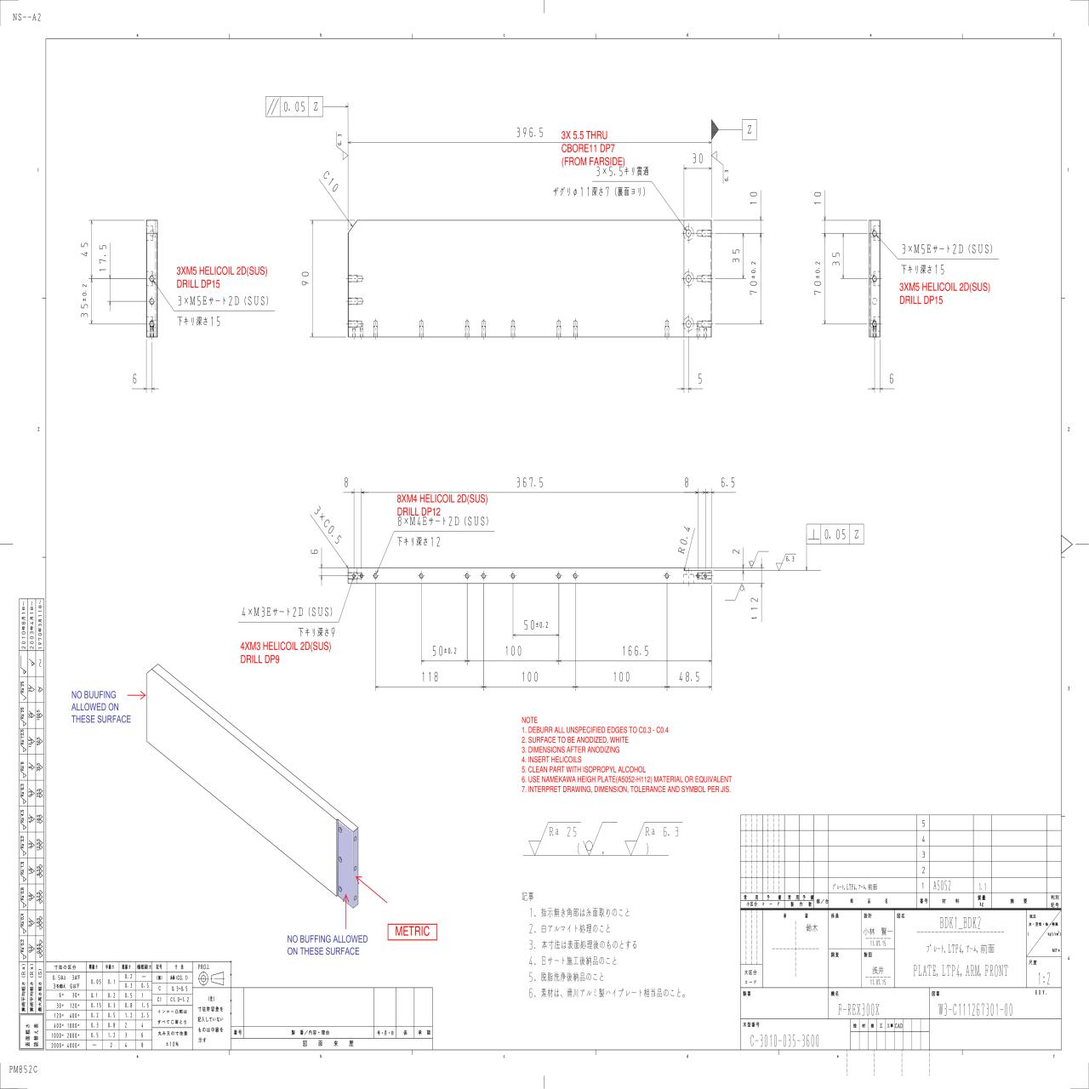basic_dimension: (517, 476, 543, 489), (516, 127, 543, 138), (623, 646, 649, 656), (679, 671, 699, 682), (99, 244, 107, 271), (284, 101, 305, 111), (825, 529, 845, 539), (609, 165, 624, 177), (614, 671, 630, 682), (721, 476, 735, 488), (506, 645, 521, 656), (422, 672, 438, 682), (522, 671, 538, 681), (80, 242, 88, 257), (832, 252, 840, 266), (693, 153, 703, 164), (301, 272, 309, 285), (732, 249, 740, 262), (750, 192, 757, 204), (814, 192, 821, 204), (684, 477, 689, 489), (133, 373, 137, 384), (698, 373, 702, 384), (344, 477, 348, 487), (732, 549, 740, 554), (311, 550, 319, 554), (890, 374, 893, 383)
datum_symbol: (711, 119, 757, 140)
dimension_chamfer_symbol: (322, 517, 342, 545), (322, 170, 339, 193)
dimension_chamfer_text: (327, 524, 342, 545), (327, 176, 339, 193)
dimension_diameter_symbol: (573, 187, 589, 197)
dimension_diameter_text: (580, 187, 590, 197)
dimension_metric_symbol: (190, 295, 202, 307), (410, 516, 421, 527), (253, 607, 265, 617), (909, 282, 919, 291)
dimension_metric_text: (197, 295, 201, 307), (915, 282, 920, 291), (417, 516, 421, 527), (261, 606, 265, 617)
dimension_radius_symbol: (678, 524, 691, 555)
dimension_radius_text: (680, 524, 691, 546)
dimension_thickness_symbol: (750, 597, 758, 621)
dimension_thickness_text: (751, 597, 758, 611)
explicit_tolerance_text: (80, 282, 88, 318), (524, 619, 549, 630), (750, 261, 757, 295), (814, 261, 821, 295), (433, 646, 456, 655)
gdt_frame_symbol: (264, 93, 324, 120), (805, 523, 866, 548)
gdt_parallelism_symbol: (267, 98, 279, 116)
gdt_perpendicularity_symbol: (808, 529, 820, 540)
surface_finish_symbol: (711, 151, 729, 184), (748, 551, 769, 569), (336, 131, 348, 160), (776, 554, 796, 571), (725, 583, 745, 600)
surface_finish_text: (337, 134, 342, 145), (724, 170, 729, 181), (786, 556, 794, 561)
